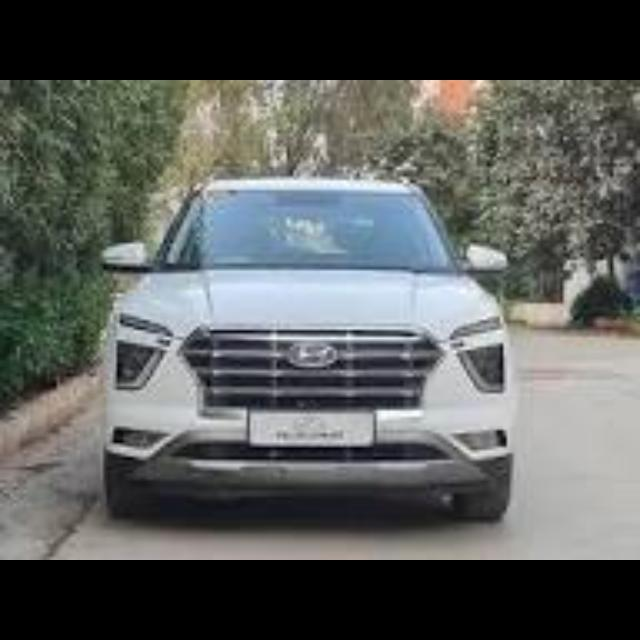vehicles: (86, 170, 534, 530)
